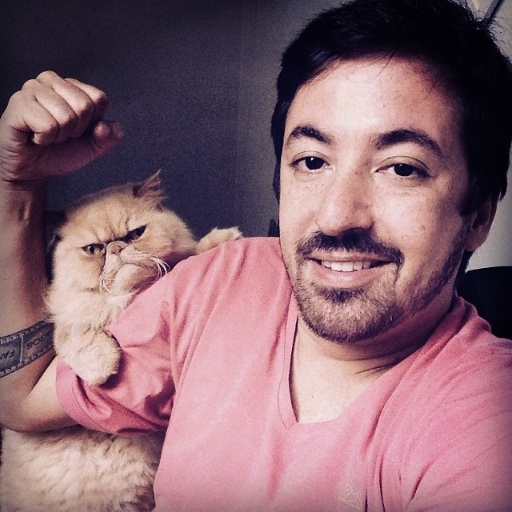hand: (0, 66, 126, 176)
